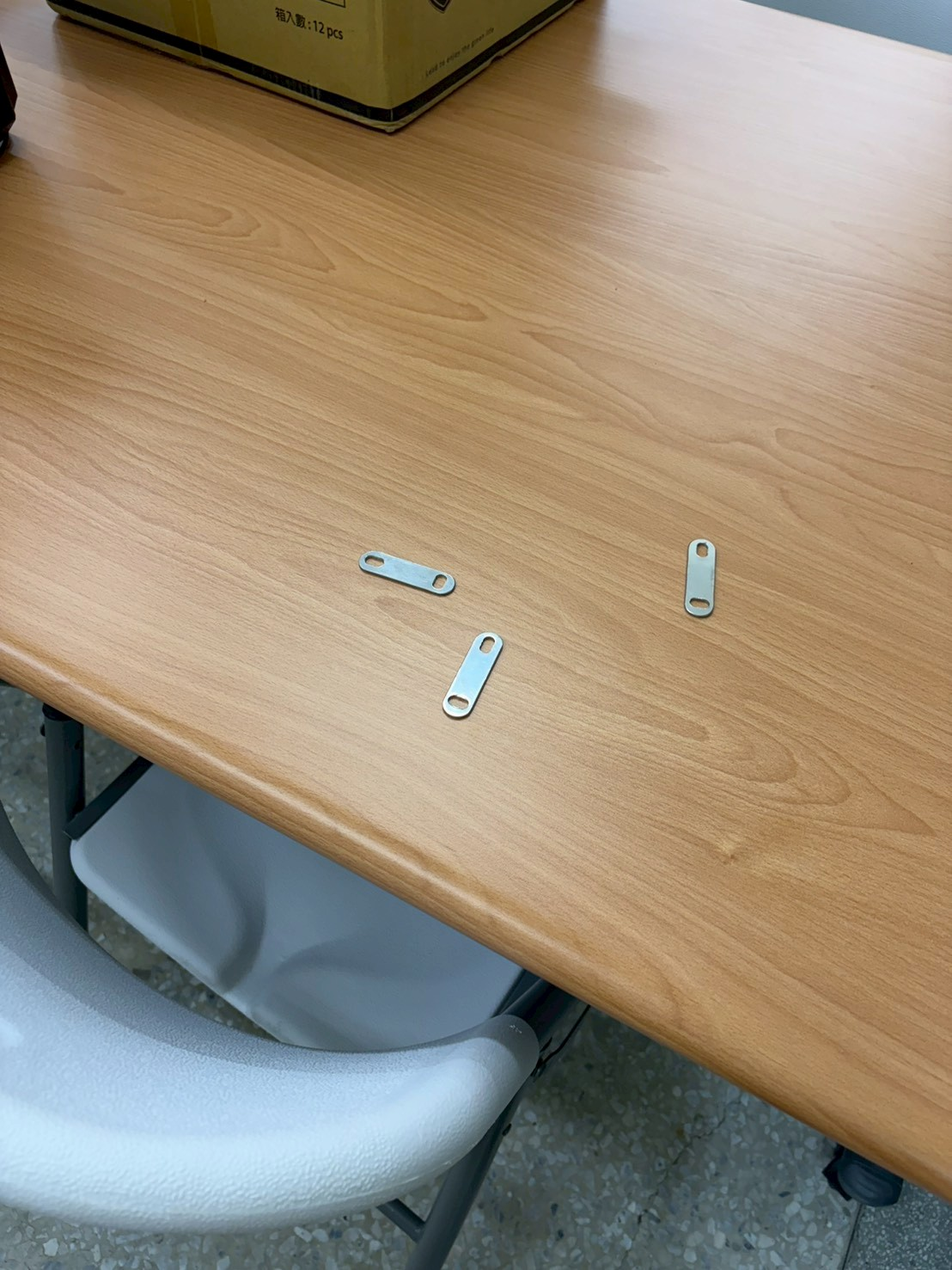Fe: (345, 537, 458, 595), (442, 632, 503, 719), (680, 526, 720, 620)
